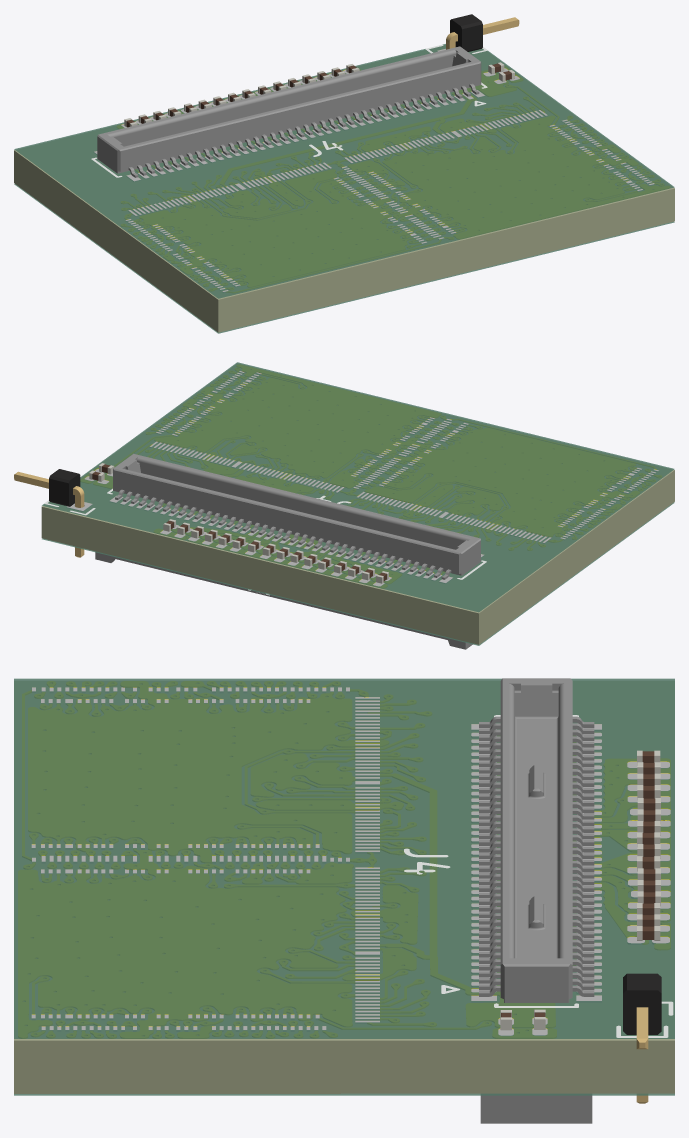
The model's file is asic.glb.
3 renders of one model, top to bottom at view 1: azimuth 30°, elevation 25°; view 2: azimuth 150°, elevation 25°; view 3: azimuth 270°, elevation 25°, orthographic. The views are drawn at different scales.
Visible parts, largest first — view 1: =>[0:1:1:15], =>[0:1:1:17], =>[0:1:1:10], =>[0:1:1:5], =>[0:1:1:11], =>[0:1:1:7], =>[0:1:1:16]; view 2: =>[0:1:1:15], =>[0:1:1:10], =>[0:1:1:17], =>[0:1:1:5], =>[0:1:1:11], =>[0:1:1:7], =>[0:1:1:9], =>[0:1:1:16]; view 3: =>[0:1:1:15], =>[0:1:1:10], =>[0:1:1:17], =>[0:1:1:5], =>[0:1:1:11], =>[0:1:1:9], =>[0:1:1:7], =>[0:1:1:16], =>[0:1:1:12], =>[0:1:1:13].
Part boxes in pixels (bbox=[...]): =>[0:1:1:15]: bbox=[14, 44, 674, 298]; =>[0:1:1:17]: bbox=[14, 45, 674, 332]; =>[0:1:1:10]: bbox=[117, 66, 669, 292]; =>[0:1:1:5]: bbox=[97, 46, 481, 177]; =>[0:1:1:11]: bbox=[94, 49, 654, 292]; =>[0:1:1:7]: bbox=[446, 14, 519, 51]; =>[0:1:1:16]: bbox=[14, 184, 674, 333]; =>[0:1:1:15]: bbox=[42, 362, 674, 612]; =>[0:1:1:10]: bbox=[81, 365, 661, 587]; =>[0:1:1:17]: bbox=[41, 364, 674, 644]; =>[0:1:1:5]: bbox=[113, 453, 480, 579]; =>[0:1:1:11]: bbox=[67, 371, 658, 586]; =>[0:1:1:7]: bbox=[14, 469, 84, 557]; =>[0:1:1:9]: bbox=[95, 552, 472, 649]; =>[0:1:1:16]: bbox=[42, 502, 674, 645]; =>[0:1:1:15]: bbox=[14, 678, 674, 1038]; =>[0:1:1:10]: bbox=[18, 681, 670, 1038]; =>[0:1:1:17]: bbox=[14, 681, 674, 1093]; =>[0:1:1:5]: bbox=[479, 678, 594, 1002]; =>[0:1:1:11]: bbox=[31, 687, 670, 1035]; =>[0:1:1:9]: bbox=[480, 1094, 592, 1123]; =>[0:1:1:7]: bbox=[623, 973, 661, 1103]; =>[0:1:1:16]: bbox=[14, 1093, 674, 1095]; =>[0:1:1:12]: bbox=[22, 682, 665, 1035]; =>[0:1:1:13]: bbox=[404, 715, 673, 1037].
Size of the model in its own units: 0.0238 by 0.0044 by 0.017.
